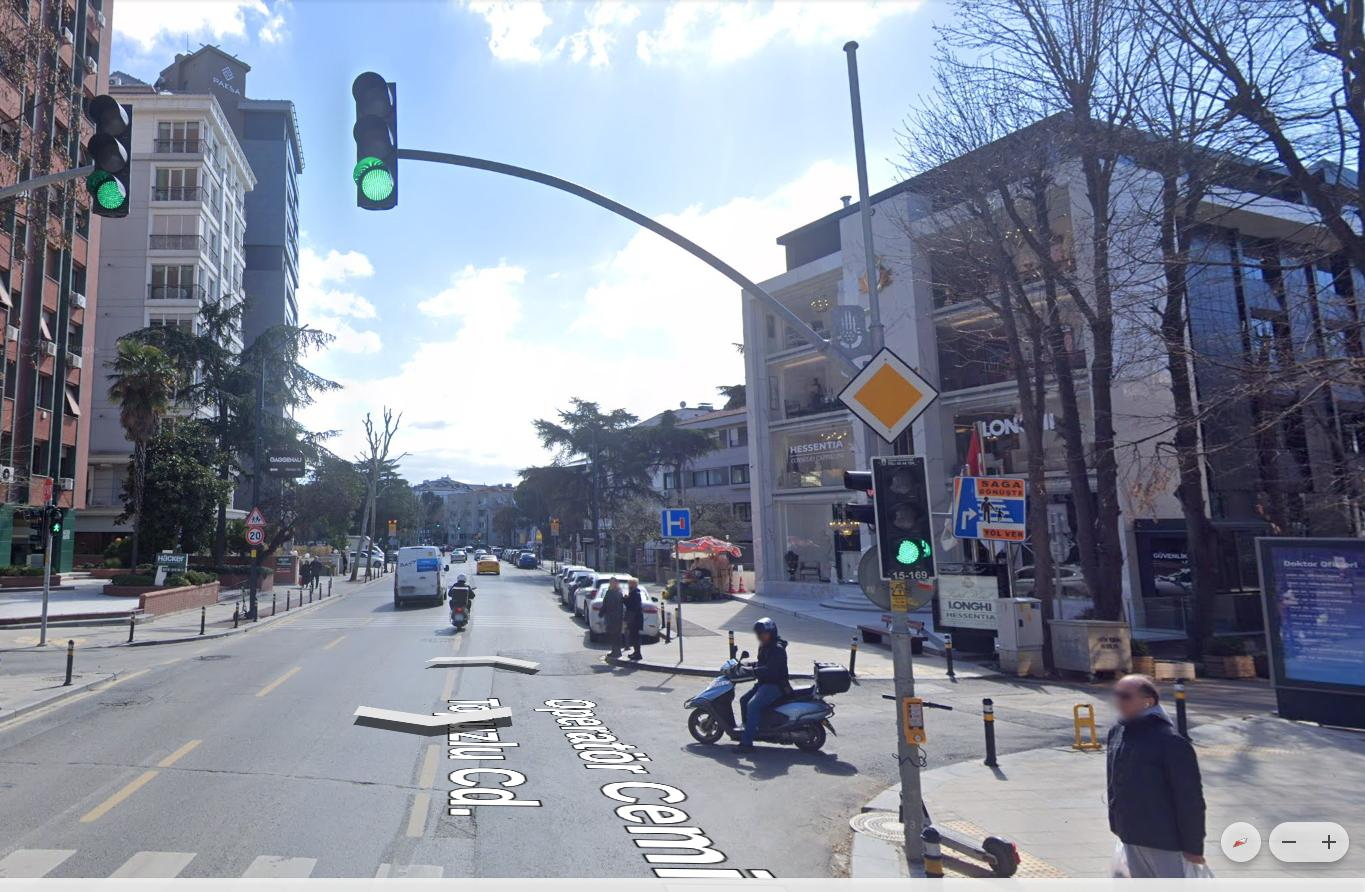greenlight: (870, 455, 928, 590), (348, 76, 405, 209), (80, 94, 132, 213)
